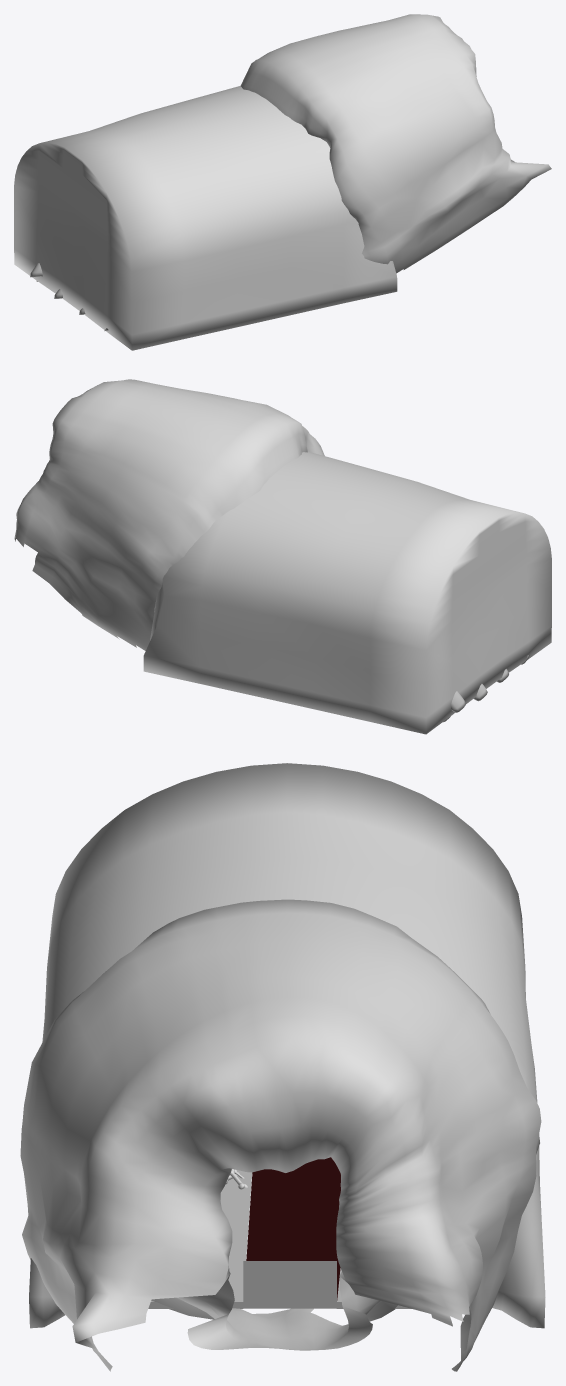
The model's file is PUZZLE_1_SERPI.fbx.
3 renders of one model, top to bottom at view 1: azimuth 30°, elevation 25°; view 2: azimuth 150°, elevation 25°; view 3: azimuth 270°, elevation 25°, orthographic. The views are drawn at different scales.
Visible parts, largest first — view 1: PAREDES; view 2: PAREDES, PIEDRITAS LAVA .003; view 3: PAREDES, SUELO, RAMPA.
Boxes of the visible parts, <box> form: PAREDES: <box>14,14,551,350</box>; PAREDES: <box>14,379,551,734</box>; PIEDRITAS LAVA .003: <box>443,655,529,722</box>; PAREDES: <box>20,763,545,1371</box>; SUELO: <box>148,1157,411,1308</box>; RAMPA: <box>243,1261,336,1308</box>.
Bounding box in the file's own units: 27368 × 12451 × 14275.
